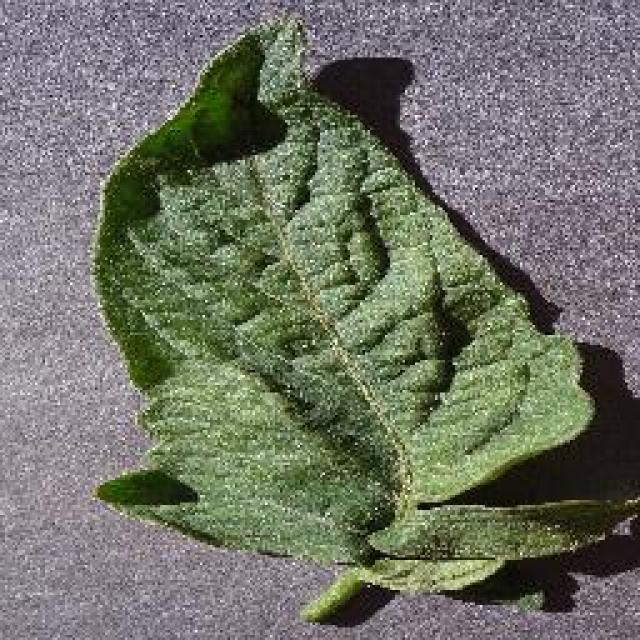Tomato___healthy: (91, 12, 638, 623)
